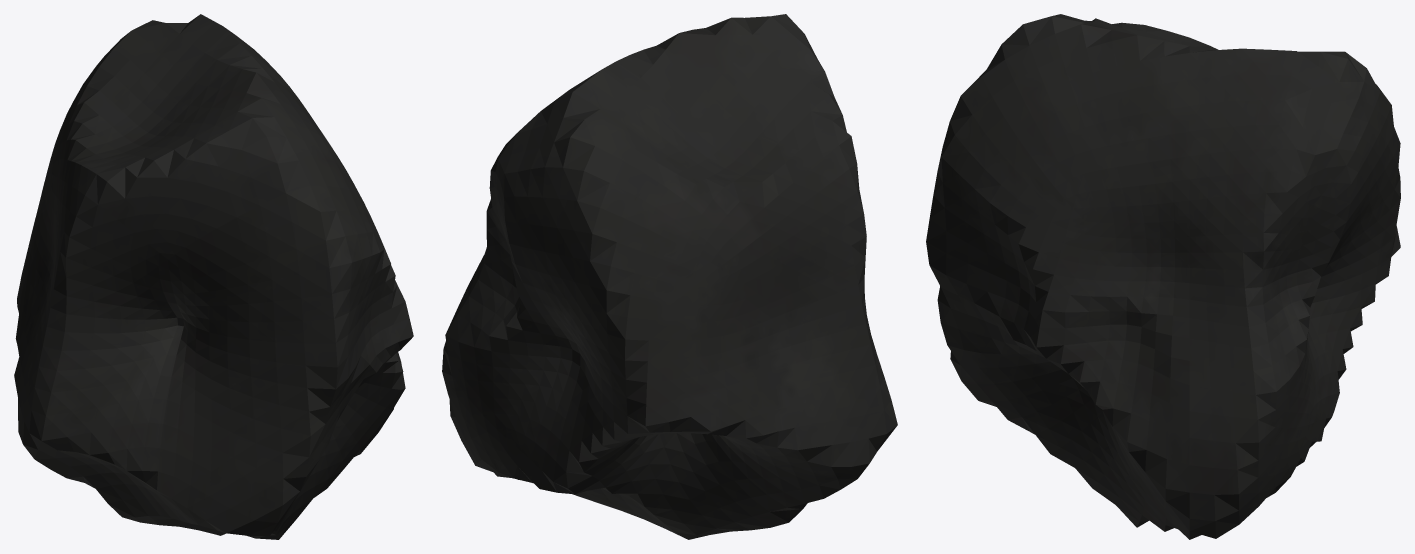
File: rocks-black_4.fbx
3 views of the same model, side by side, from view 1: azimuth 30°, elevation 25°; view 2: azimuth 150°, elevation 25°; view 3: azimuth 270°, elevation 25° (orthographic). The views are drawn at different scales.
Parts seen in each view (by area): view 1: Cube.023; view 2: Cube.023; view 3: Cube.023.
Boxes of the visible parts, <box> form: Cube.023: <box>14,14,413,539</box>; Cube.023: <box>442,14,897,539</box>; Cube.023: <box>926,14,1400,539</box>.
Size of the model in its own units: 162 by 192 by 171.
